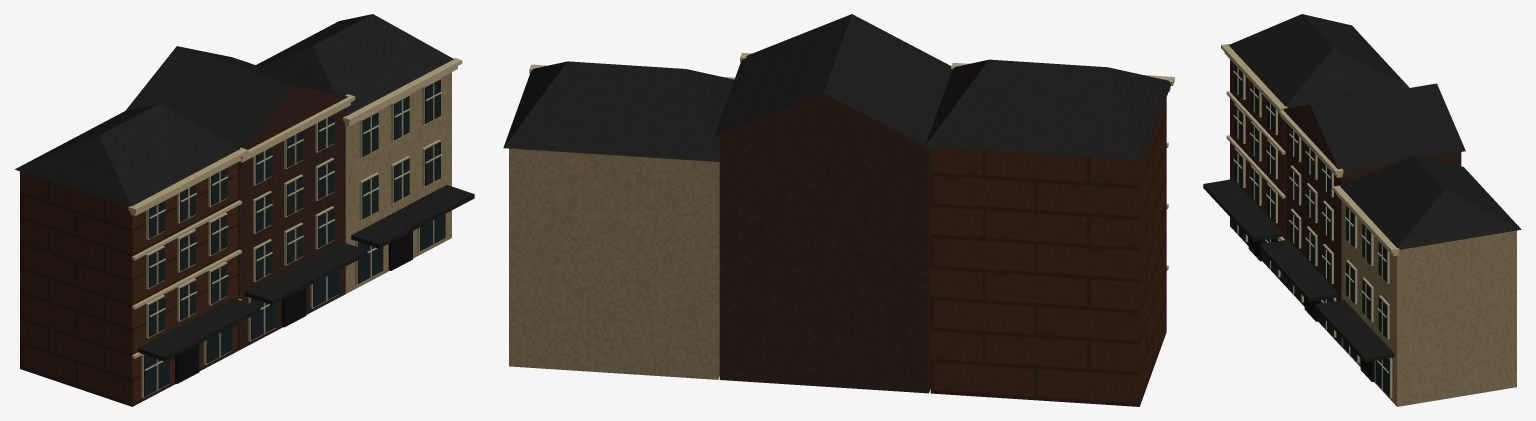
3 renders of one model, left to right at view 1: azimuth 30°, elevation 25°; view 2: azimuth 150°, elevation 25°; view 3: azimuth 270°, elevation 25°, orthographic. The views are drawn at different scales.
Visible parts, largest first — view 1: binnenweg-oost-1, binnenweg-oost-0, binnenweg-oost-3, binnenweg-oost-2, binnenweg-oost-5, binnenweg-oost-6, binnenweg-oost-4; view 2: binnenweg-oost-0, binnenweg-oost-5, binnenweg-oost-1, binnenweg-oost-6; view 3: binnenweg-oost-1, binnenweg-oost-6, binnenweg-oost-2, binnenweg-oost-3, binnenweg-oost-5, binnenweg-oost-0, binnenweg-oost-4.
Boxes of the visible parts, x1,y1,x2,y2 form: binnenweg-oost-1: (15,14,474,361); binnenweg-oost-0: (20,162,238,406); binnenweg-oost-3: (144,79,445,396); binnenweg-oost-2: (128,58,462,398); binnenweg-oost-5: (238,86,347,350); binnenweg-oost-6: (345,72,451,293); binnenweg-oost-4: (175,231,412,383); binnenweg-oost-0: (930,98,1166,406); binnenweg-oost-5: (714,93,932,393); binnenweg-oost-1: (503,14,1171,162); binnenweg-oost-6: (509,148,719,379); binnenweg-oost-1: (1203,14,1521,362); binnenweg-oost-6: (1341,201,1516,406); binnenweg-oost-2: (1221,44,1399,397); binnenweg-oost-3: (1231,64,1389,396); binnenweg-oost-5: (1283,104,1461,346); binnenweg-oost-0: (1230,59,1285,286); binnenweg-oost-4: (1248,237,1374,381).
Bounding box in the file's own units: 33.96 × 16.6 × 22.25.
Materials: 7 (7 with a texture image).
